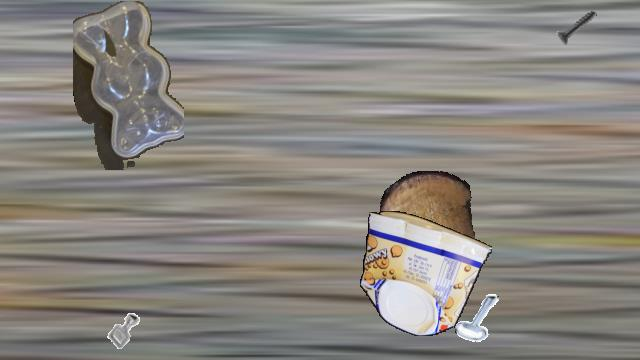metal: (551, 1, 603, 53), (454, 293, 506, 345), (99, 305, 149, 355)
plastic: (73, 1, 183, 169), (360, 211, 492, 335)
wood: (380, 171, 474, 275)
